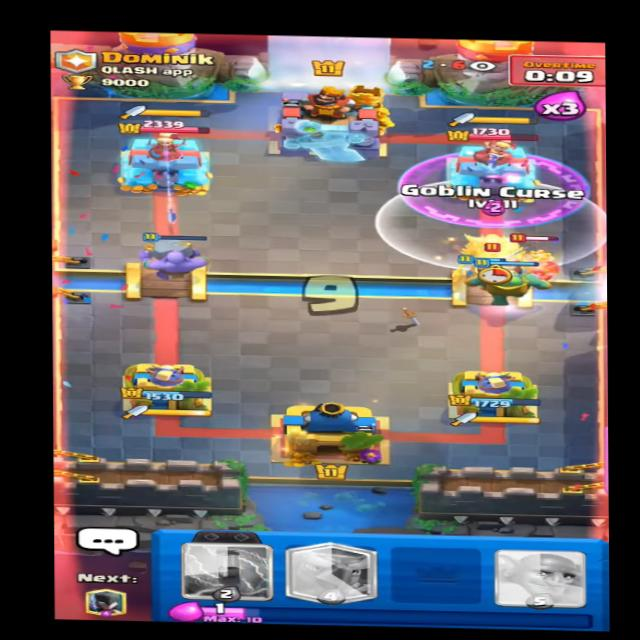Pekka: (452, 228, 523, 268)
Royalghost: (497, 231, 563, 286)
